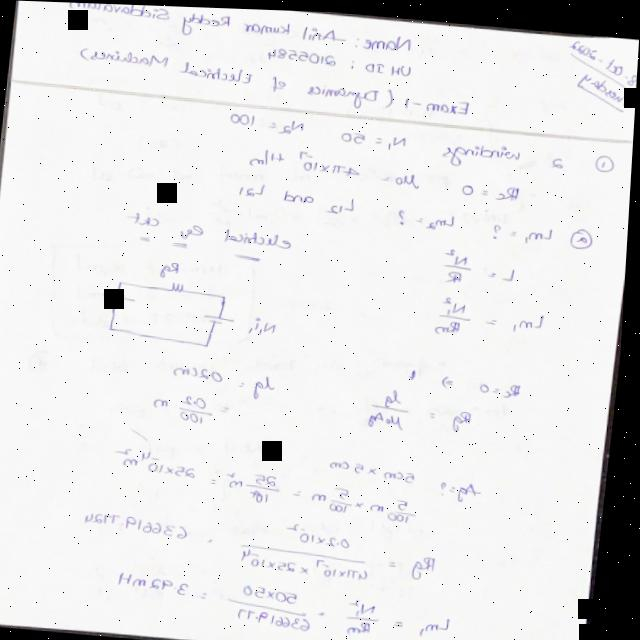source: (195, 307, 248, 330), (96, 283, 145, 304)
